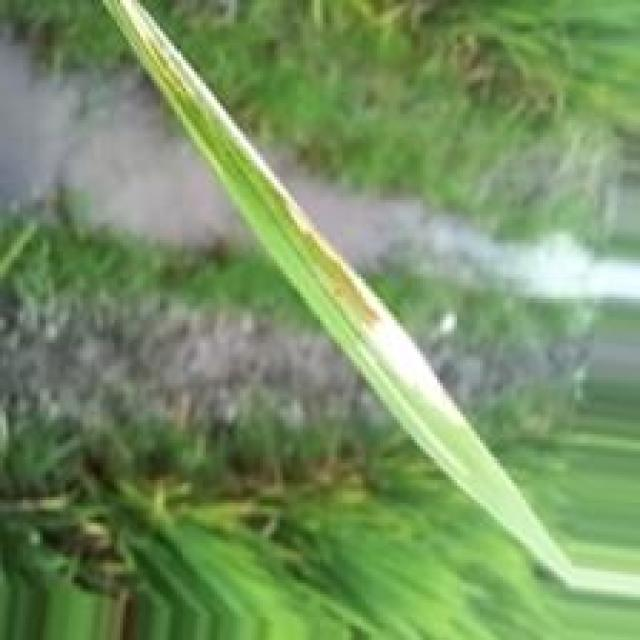Rice_Hispa: (112, 3, 476, 484)
